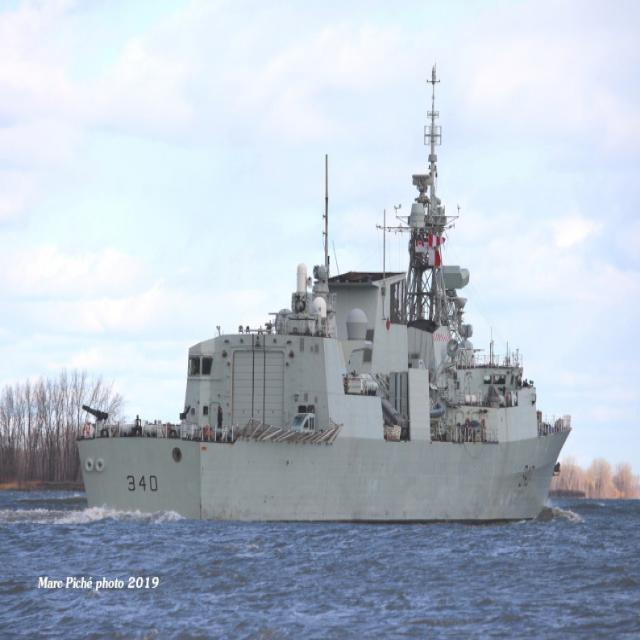Fragata: (70, 52, 581, 532)
